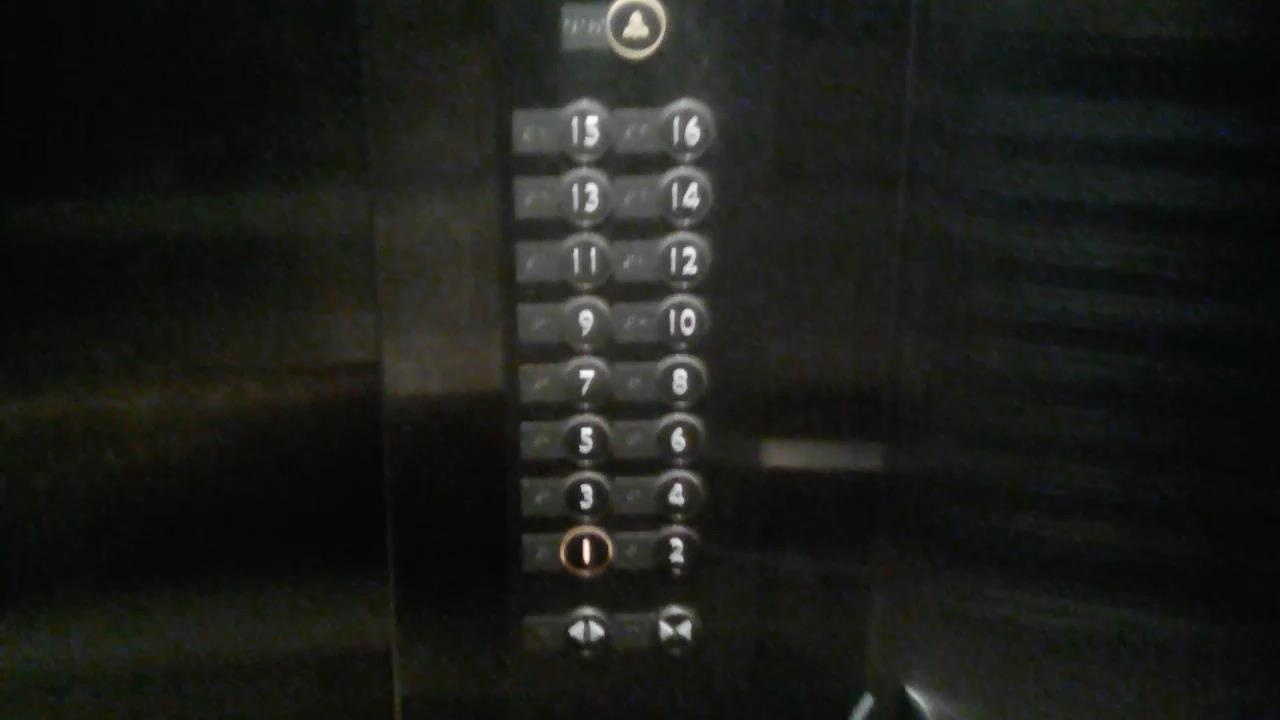1: (518, 525, 614, 585)
10: (614, 295, 713, 354)
11: (512, 232, 615, 293)
12: (613, 232, 717, 293)
13: (511, 166, 616, 231)
14: (614, 165, 718, 230)
15: (509, 97, 616, 164)
16: (613, 96, 720, 163)
2: (613, 524, 708, 585)
3: (518, 471, 614, 525)
4: (615, 469, 708, 524)
5: (515, 413, 613, 472)
6: (615, 413, 710, 468)
7: (517, 356, 612, 415)
8: (610, 354, 713, 411)
9: (515, 295, 615, 356)
alarm: (557, 1, 673, 64)
close: (614, 604, 706, 662)
open: (524, 604, 616, 662)
